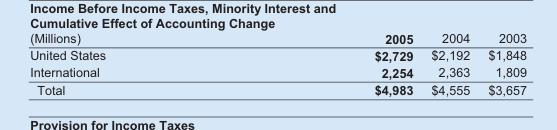table: (29, 29, 526, 99)
table column: (29, 29, 239, 99), (239, 29, 421, 99), (421, 29, 478, 99), (478, 29, 526, 99)
table column header: (29, 29, 526, 46)
table row: (29, 46, 526, 64), (29, 81, 526, 99), (29, 29, 526, 46), (29, 64, 526, 81)
